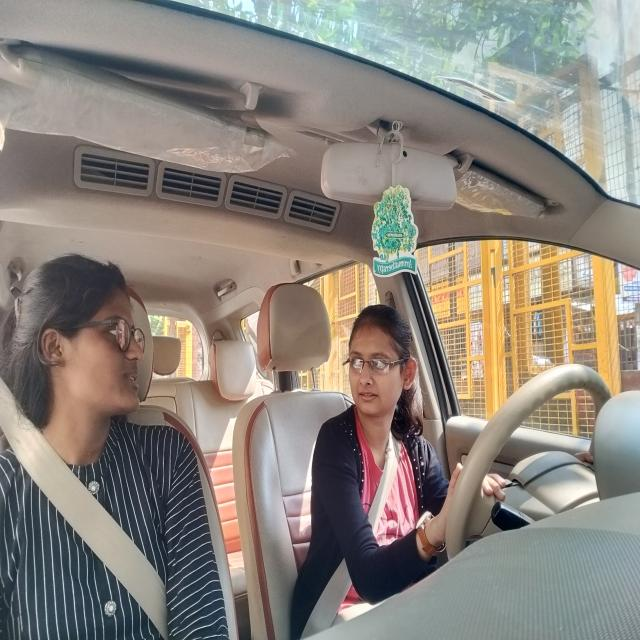LeftRight: (349, 297, 419, 439)
person: (22, 253, 147, 452)
talking: (121, 364, 143, 392), (357, 387, 383, 403)
